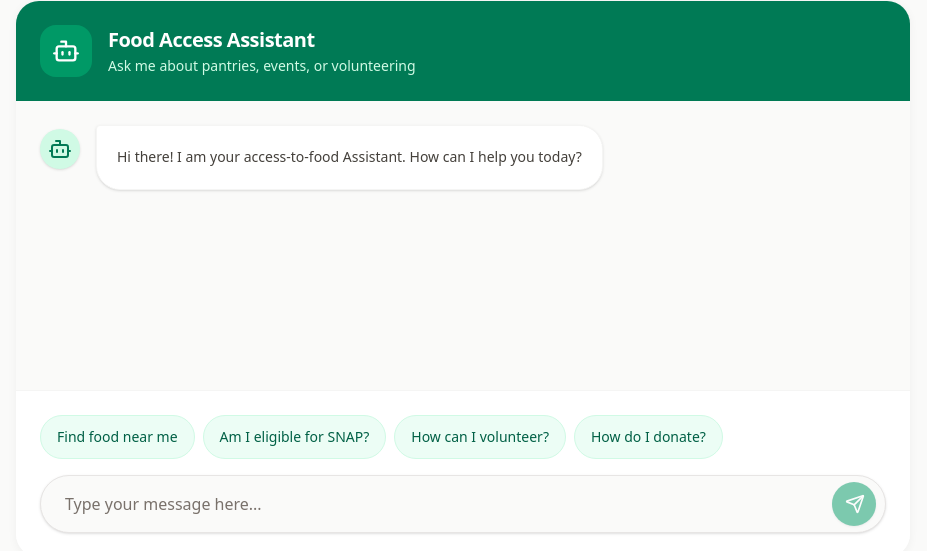
it: Assistant tool loop › shows the final answer, not the interim tool-use text
Click the button "Find food near me". click: (117, 437)
box: 40,415 -> 195,459
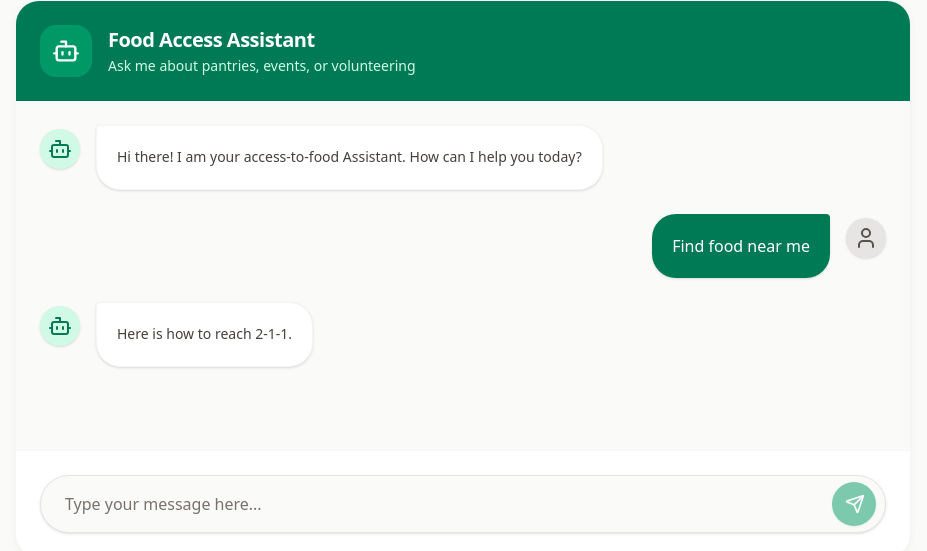
Result: the text "Here is how to reach 2-1-1." is shown at 117,323 -> 292,346
